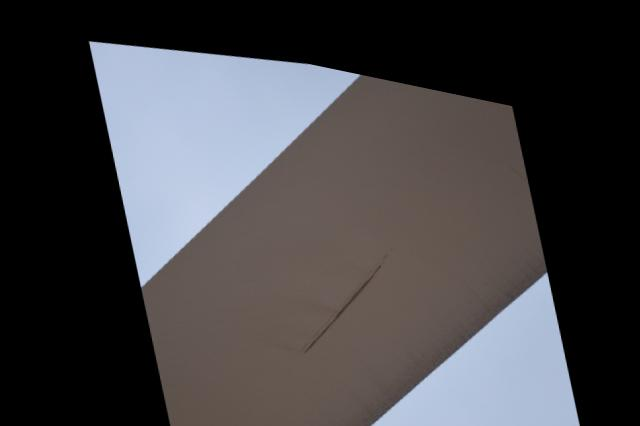damage: (277, 230, 398, 357)
